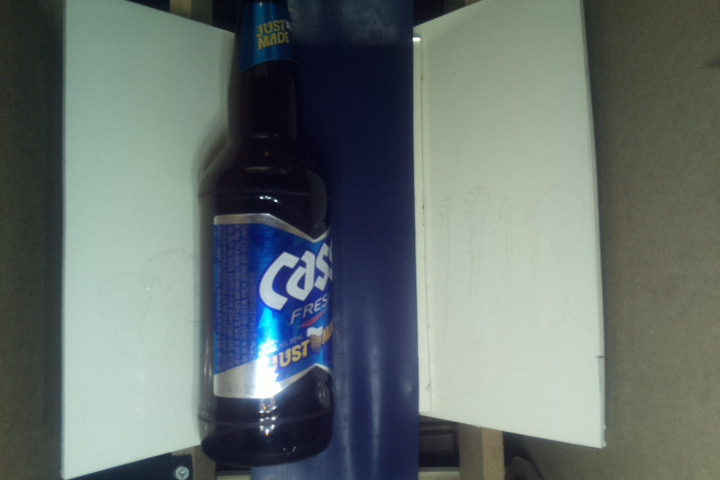makju: (190, 1, 335, 467)
